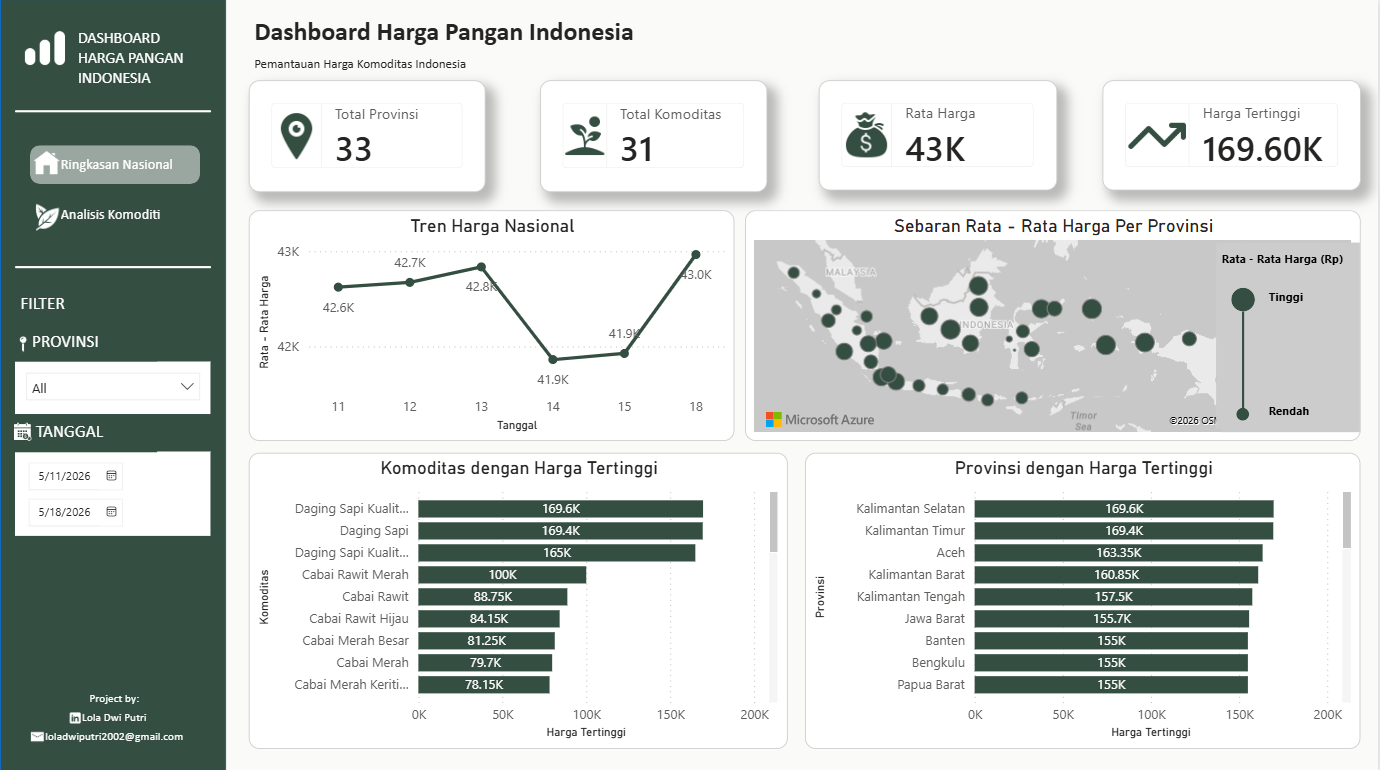

What the dashboard file says about the page in this screenshot:
{"tool":"powerbi","page":{"name":"     Ringkasan Nasional","canvas":[1280,720],"ordinal":0},"visuals":[{"type":"shape","box":[0,0,210,720],"z":0},{"type":"pageNavigator","box":[27.6,136.3,158,83.2],"z":1000},{"type":"slicer","fields":{"Values":["IndonesiaComodityPrices.Provinsi"]},"box":[14.1,337.3,181.8,49.1],"z":2000},{"type":"slicer","fields":{"Values":["IndonesiaComodityPrices.Tanggal"]},"box":[14.1,420.9,181.8,78.2],"z":3000},{"type":"textbox","title":"DASHBOARD HARGA PANGAN INDONESIA","box":[67.4,21.7,137.5,68.8],"z":4000},{"type":"textbox","box":[231.7,10,528.3,41.7],"z":5000},{"type":"textbox","box":[230.8,45,452.5,30.8],"z":6000},{"type":"cardVisual","fields":{"Data":["IndonesiaComodityPrices.Total Provinsi"]},"box":[231.1,75.8,220.1,103.9],"z":7000},{"type":"cardVisual","fields":{"Data":["IndonesiaComodityPrices.Total Komoditas"]},"box":[501.4,75.8,211.6,103.9],"z":8000},{"type":"cardVisual","fields":{"Data":["IndonesiaComodityPrices.Rata Harga"]},"box":[760.6,75.8,221.3,102.7],"z":9000},{"type":"cardVisual","fields":{"Data":["IndonesiaComodityPrices.Harga Tertinggi"]},"box":[1024.3,76,240.1,102.5],"z":10000},{"type":"lineChart","title":"Tren Harga Nasional","fields":{"Y":["IndonesiaComodityPrices.Rata Harga"],"Category":["IndonesiaComodityPrices.Tanggal.Variation.Date Hierarchy.Day"]},"box":[231.6,196.6,451.2,214.7],"z":11000},{"type":"azureMap","title":"Sebaran Rata - Rata Harga Per Provinsi","fields":{"Size":["IndonesiaComodityPrices.Rata Harga"],"Category":["IndonesiaComodityPrices.Provinsi"]},"box":[692.5,196.6,571.9,214.7],"z":12000},{"type":"barChart","title":"Provinsi dengan Harga Tertinggi","fields":{"Category":["IndonesiaComodityPrices.Provinsi"],"Y":["IndonesiaComodityPrices.Harga Tertinggi"]},"box":[748,421,516.4,275.1],"z":13000},{"type":"barChart","title":"Komoditas dengan Harga Tertinggi","fields":{"Category":["IndonesiaComodityPrices.Komoditas"],"Y":["IndonesiaComodityPrices.Harga Tertinggi"]},"box":[231.6,421,500.7,275.1],"z":14000},{"type":"image","box":[14.3,21.7,53.1,47.1],"z":15000},{"type":"shape","box":[14.3,63.9,182.2,80.8],"z":16000},{"type":"textbox","box":[14.3,267.8,131.5,35],"z":17000},{"type":"shape","box":[14.3,232.8,182.2,31.4],"z":18000},{"type":"textbox","box":[14.1,303.6,131.8,33.6],"z":19000},{"type":"textbox","box":[14.1,386.4,131.8,34.5],"z":20000},{"type":"image","box":[31.4,139.5,23.6,26.4],"z":21000},{"type":"image","box":[28.6,185.5,28.6,34.1],"z":22000},{"type":"image","box":[14.1,311.8,15,17.3],"z":23000},{"type":"image","box":[11.8,393.6,18.6,16.8],"z":24000},{"type":"textbox","box":[21.7,633.7,168.3,69.7],"z":25000},{"type":"image","box":[63.4,662.4,12.4,12.1],"z":26000},{"type":"image","box":[27.7,679.6,14.2,11.9],"z":27000},{"type":"shape","box":[1134,226,129,176],"z":28000},{"type":"textbox","box":[1130,227,133,173],"z":29000},{"type":"shape","box":[1144,268,22,22],"z":30000},{"type":"shape","box":[1149,380,12,12],"z":31000},{"type":"shape","box":[1144,290,22,90],"z":32000}]}

Visuals, with their boxes on the page's 1280x720 design canvas (x1, y1, x2, y2). These are canvas units, not pixel positions in the 1380x770 screenshot, which may show the page scaled, cropped or inside an application window:
shape: (left=0, top=0, right=210, bottom=720)
pageNavigator: (left=28, top=136, right=186, bottom=220)
slicer - IndonesiaComodityPrices.Provinsi: (left=14, top=337, right=196, bottom=386)
slicer - IndonesiaComodityPrices.Tanggal: (left=14, top=421, right=196, bottom=499)
"DASHBOARD HARGA PANGAN INDONESIA" textbox: (left=67, top=22, right=205, bottom=90)
textbox: (left=232, top=10, right=760, bottom=52)
textbox: (left=231, top=45, right=683, bottom=76)
cardVisual - IndonesiaComodityPrices.Total Provinsi: (left=231, top=76, right=451, bottom=180)
cardVisual - IndonesiaComodityPrices.Total Komoditas: (left=501, top=76, right=713, bottom=180)
cardVisual - IndonesiaComodityPrices.Rata Harga: (left=761, top=76, right=982, bottom=178)
cardVisual - IndonesiaComodityPrices.Harga Tertinggi: (left=1024, top=76, right=1264, bottom=178)
"Tren Harga Nasional" lineChart: (left=232, top=197, right=683, bottom=411)
"Sebaran Rata - Rata Harga Per Provinsi" azureMap: (left=692, top=197, right=1264, bottom=411)
"Provinsi dengan Harga Tertinggi" barChart: (left=748, top=421, right=1264, bottom=696)
"Komoditas dengan Harga Tertinggi" barChart: (left=232, top=421, right=732, bottom=696)
image: (left=14, top=22, right=67, bottom=69)
shape: (left=14, top=64, right=196, bottom=145)
textbox: (left=14, top=268, right=146, bottom=303)
shape: (left=14, top=233, right=196, bottom=264)
textbox: (left=14, top=304, right=146, bottom=337)
textbox: (left=14, top=386, right=146, bottom=421)
image: (left=31, top=140, right=55, bottom=166)
image: (left=29, top=186, right=57, bottom=220)
image: (left=14, top=312, right=29, bottom=329)
image: (left=12, top=394, right=30, bottom=410)
textbox: (left=22, top=634, right=190, bottom=703)
image: (left=63, top=662, right=76, bottom=674)
image: (left=28, top=680, right=42, bottom=692)
shape: (left=1134, top=226, right=1263, bottom=402)
textbox: (left=1130, top=227, right=1263, bottom=400)
shape: (left=1144, top=268, right=1166, bottom=290)
shape: (left=1149, top=380, right=1161, bottom=392)
shape: (left=1144, top=290, right=1166, bottom=380)
